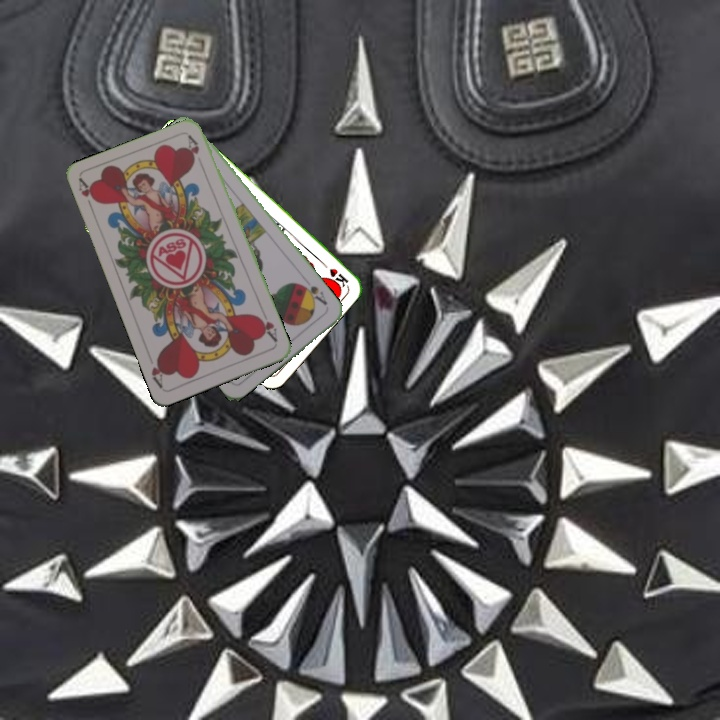HA: (74, 175, 100, 215), (253, 311, 280, 345)
HK: (316, 256, 351, 289)
SA: (297, 280, 330, 308)
